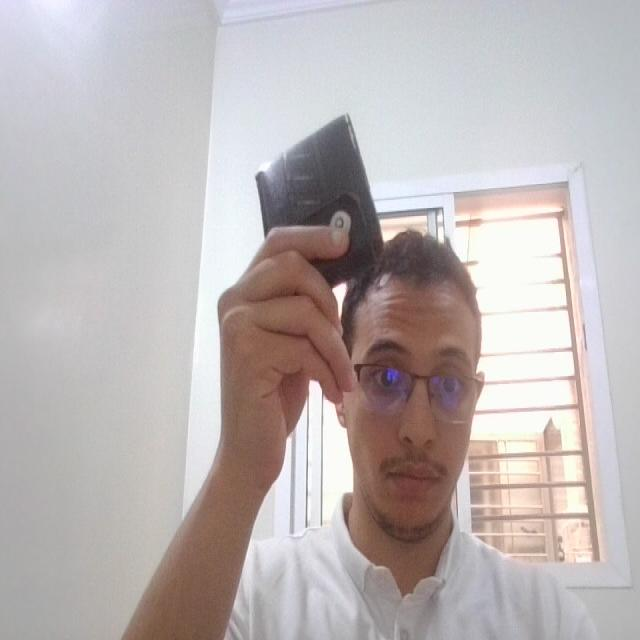wallet: (244, 106, 390, 294)
